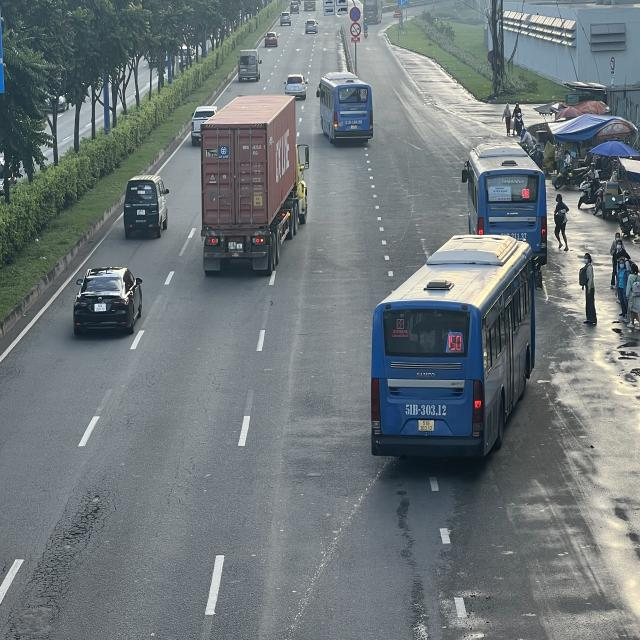car: (76, 266, 146, 336)
coach: (371, 235, 533, 464), (463, 145, 548, 285), (318, 70, 375, 142)
container: (201, 94, 313, 276)
van: (123, 177, 169, 241), (238, 49, 262, 83)
